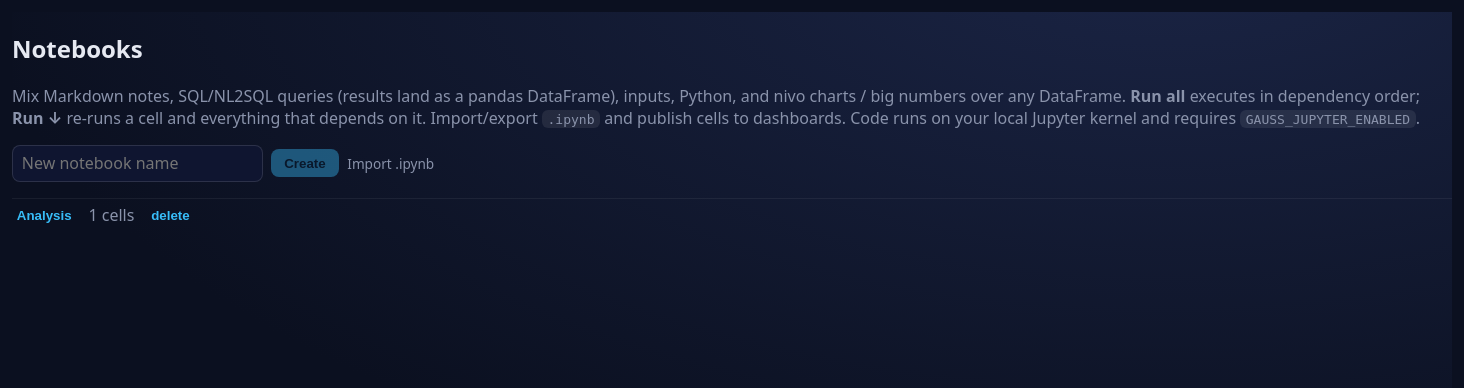
Test: Notebooks › renders a big-number cell from a fetched DataFrame
What coordinates should you click on to do the following:
click the button "Analysis"
I would click on:
 (44, 215)
Its box is [12,204,76,226].
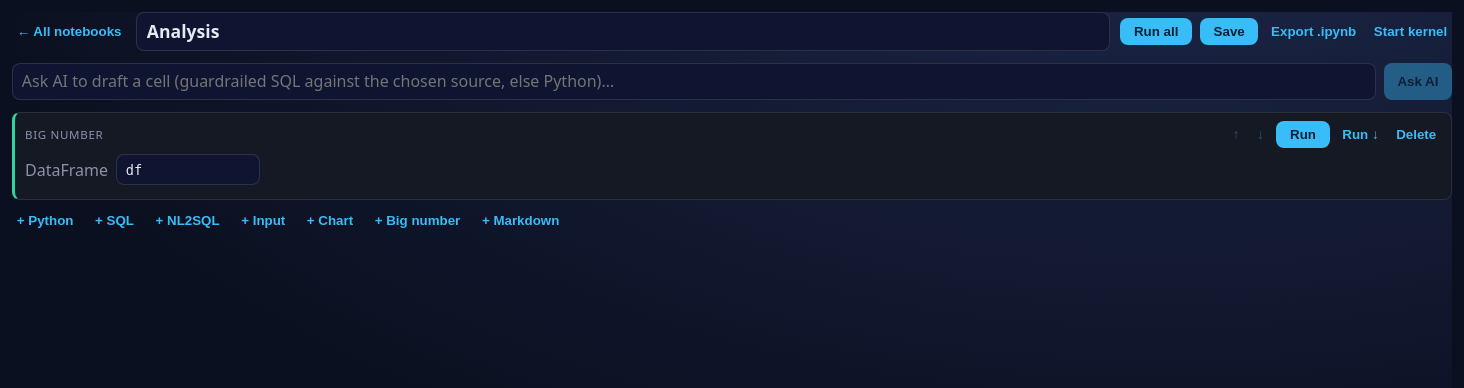
What coordinates should you click on to do the following:
click the button "Run"
I would click on:
 (1303, 134)
Its box is [1276,121,1330,148].
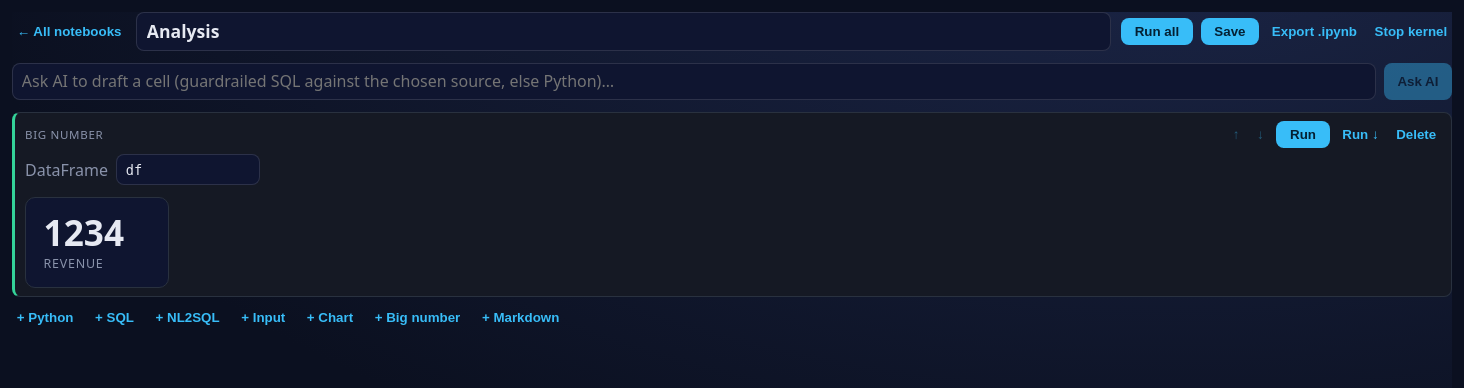
Expected: the text "1234" is shown, [44,208,124,256]
Expected: the text "revenue" is shown, [44,255,104,272]
